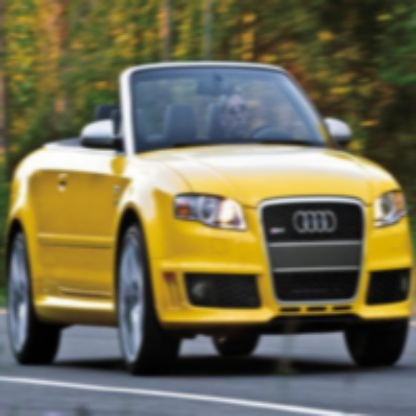Vehicle: (6, 62, 415, 385)
